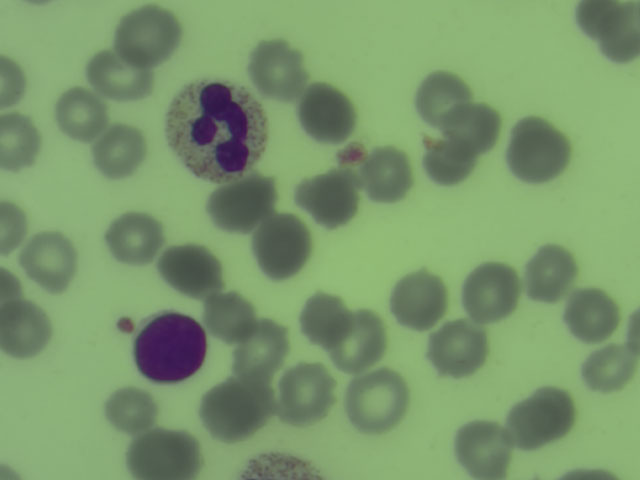Platelets: (337, 140, 368, 168), (112, 311, 137, 340)
RBC: (84, 51, 157, 106), (128, 428, 200, 480), (328, 308, 389, 368), (293, 285, 354, 345), (274, 362, 335, 422), (97, 380, 158, 440), (204, 379, 265, 439), (226, 321, 287, 381), (200, 283, 261, 343), (158, 239, 219, 299), (103, 207, 164, 267), (21, 230, 82, 290), (89, 121, 150, 181), (51, 80, 112, 140), (115, 5, 176, 65), (1, 299, 60, 359), (345, 369, 407, 426), (391, 270, 449, 328), (458, 262, 516, 320), (560, 287, 618, 345), (577, 339, 635, 397), (512, 387, 570, 445), (452, 418, 510, 476), (522, 243, 580, 301), (509, 122, 567, 180), (423, 134, 481, 192), (443, 93, 501, 151), (412, 67, 470, 125), (249, 36, 307, 94), (296, 82, 354, 140), (361, 143, 419, 201), (301, 169, 359, 227), (253, 218, 311, 276), (208, 171, 266, 229), (429, 319, 487, 377), (582, 1, 640, 57), (1, 106, 46, 175), (1, 54, 35, 109), (1, 196, 28, 258)
WBC: (167, 73, 270, 183), (135, 307, 209, 386)
